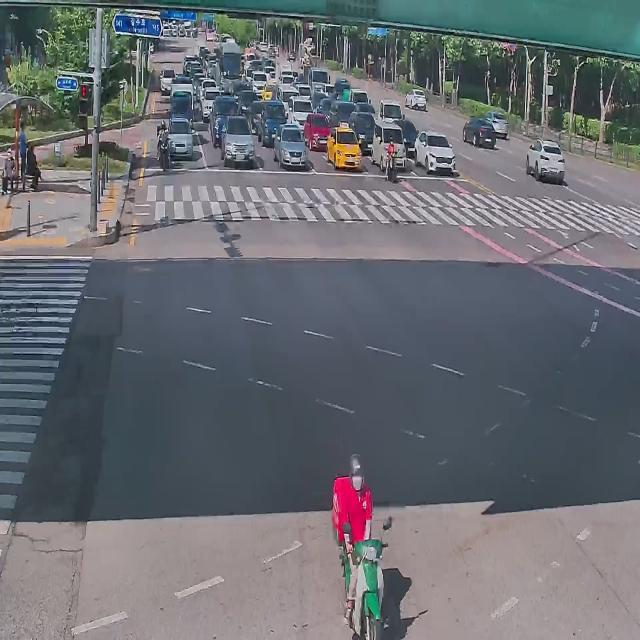Bus: (214, 39, 242, 89)
Car: (414, 130, 456, 175), (526, 138, 565, 184), (327, 121, 362, 171), (220, 116, 254, 167), (272, 123, 307, 168), (168, 116, 194, 162), (394, 119, 423, 158), (303, 111, 329, 152), (462, 117, 496, 148), (288, 95, 313, 135), (351, 108, 373, 150), (329, 100, 356, 132), (276, 86, 302, 118), (484, 110, 509, 139), (252, 93, 270, 133), (201, 88, 223, 120), (312, 93, 335, 121), (235, 89, 257, 118), (229, 76, 251, 103), (405, 88, 427, 111)
Motorcycle: (331, 452, 396, 640), (158, 120, 170, 170), (385, 136, 397, 184)
Truck: (209, 94, 244, 148), (252, 99, 288, 145), (169, 90, 195, 128), (301, 64, 328, 96), (374, 95, 403, 124), (334, 77, 352, 100), (343, 90, 369, 105)
